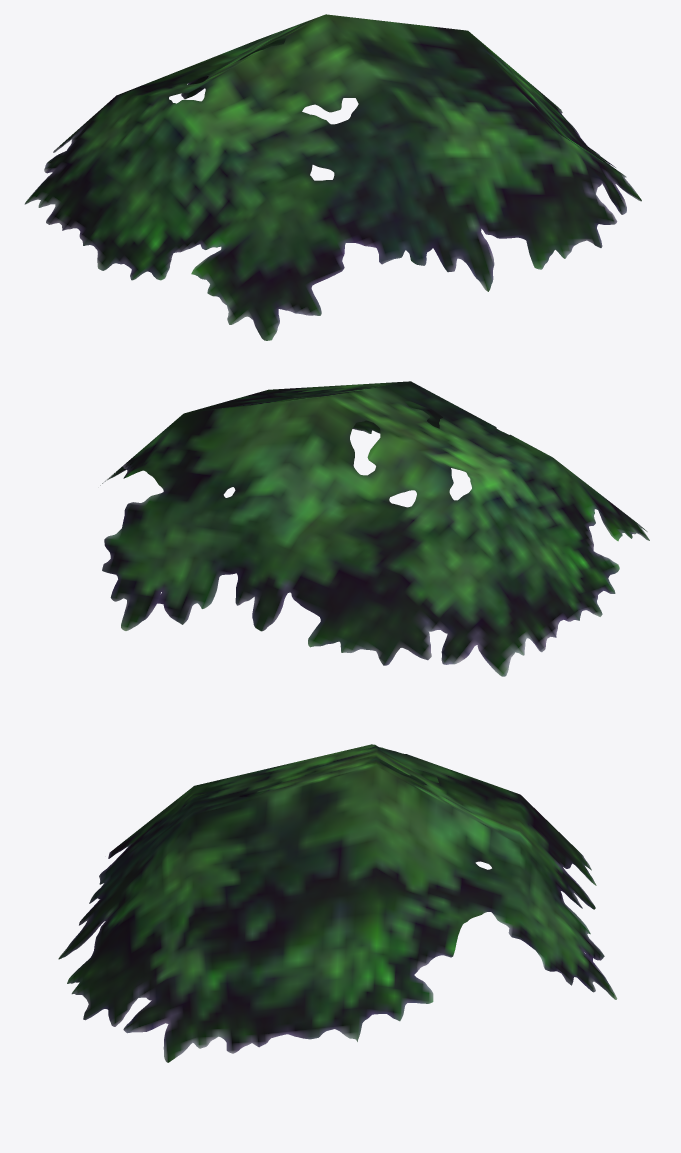
Rendered from bush_7.fbx.
3 renders of one model, top to bottom at view 1: azimuth 30°, elevation 25°; view 2: azimuth 150°, elevation 25°; view 3: azimuth 270°, elevation 25°, orthographic. The views are drawn at different scales.
Visible parts, largest first — view 1: bush_7; view 2: bush_7; view 3: bush_7.
Boxes of the visible parts, left/top/right/bottom form: bush_7: left=24, top=14, right=641, bottom=340; bush_7: left=100, top=381, right=649, bottom=676; bush_7: left=58, top=744, right=617, bottom=1062.
Bounding box in the file's own units: 1.25 × 0.4571 × 1.15.
